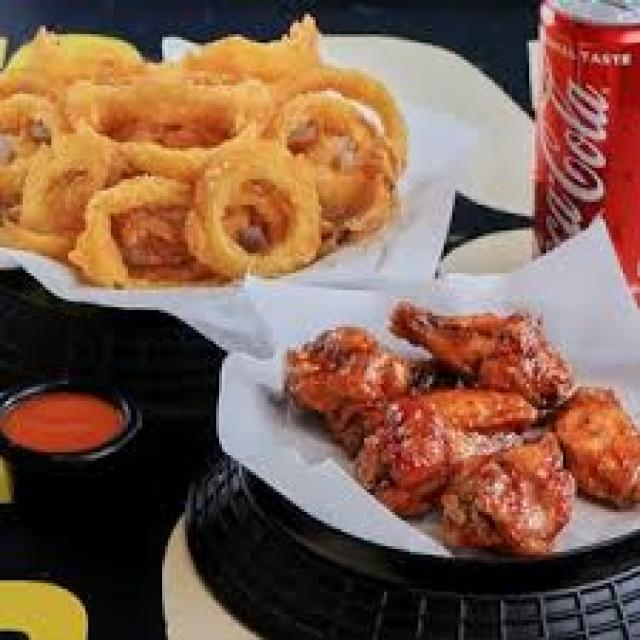Chicken Wings: (265, 299, 637, 563)
Onion Rings: (0, 12, 392, 272)
